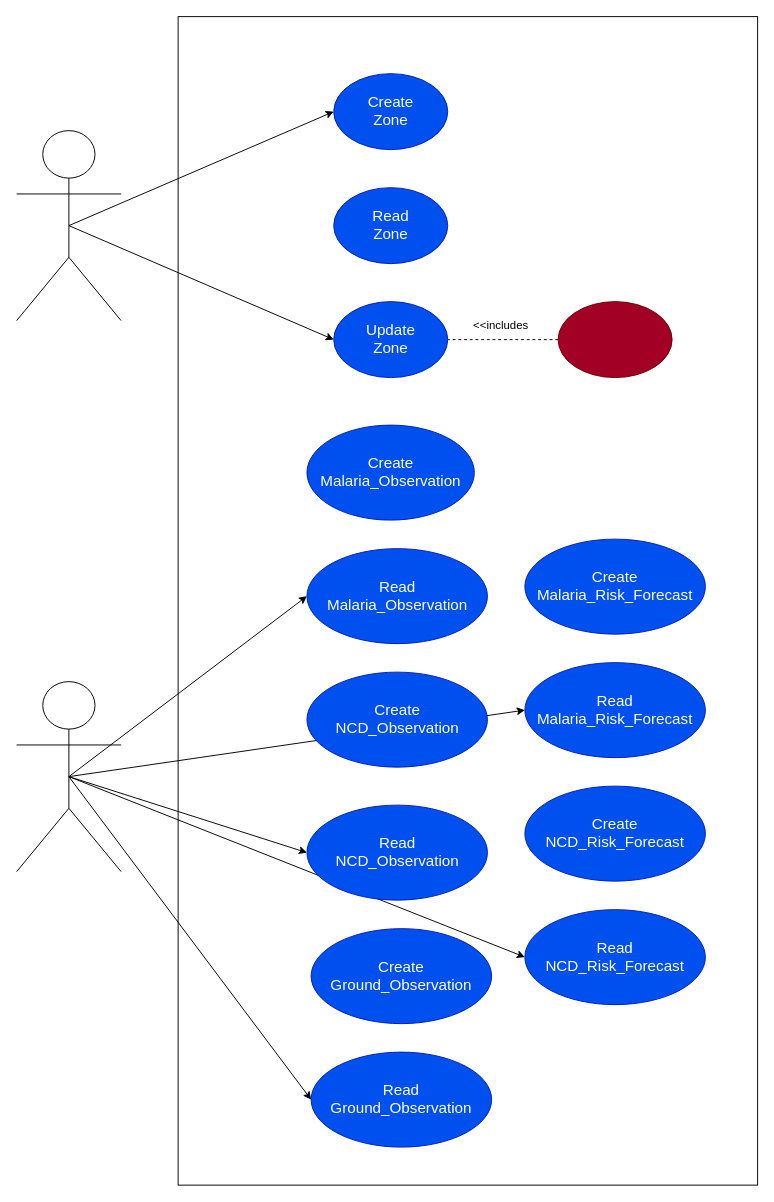
This 774x1202 diagram has some shape labels left out. The shapes that lost their labels are listed below. From the top down, each one's centre as x and y in pixels, then its label:
At (68,225): "Admin".
At (614,339): "Read Zone".
At (68,776): "User".
